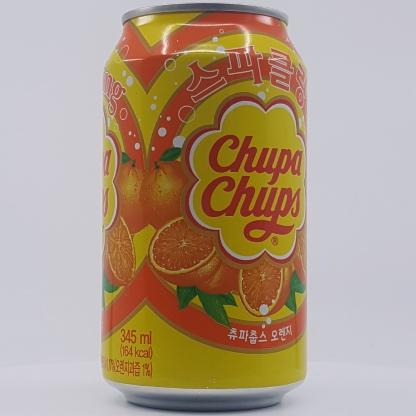----------345ML: (102, 2, 307, 411)
